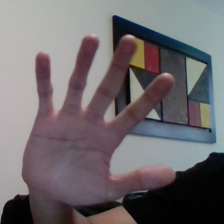left: (17, 19, 180, 212)
